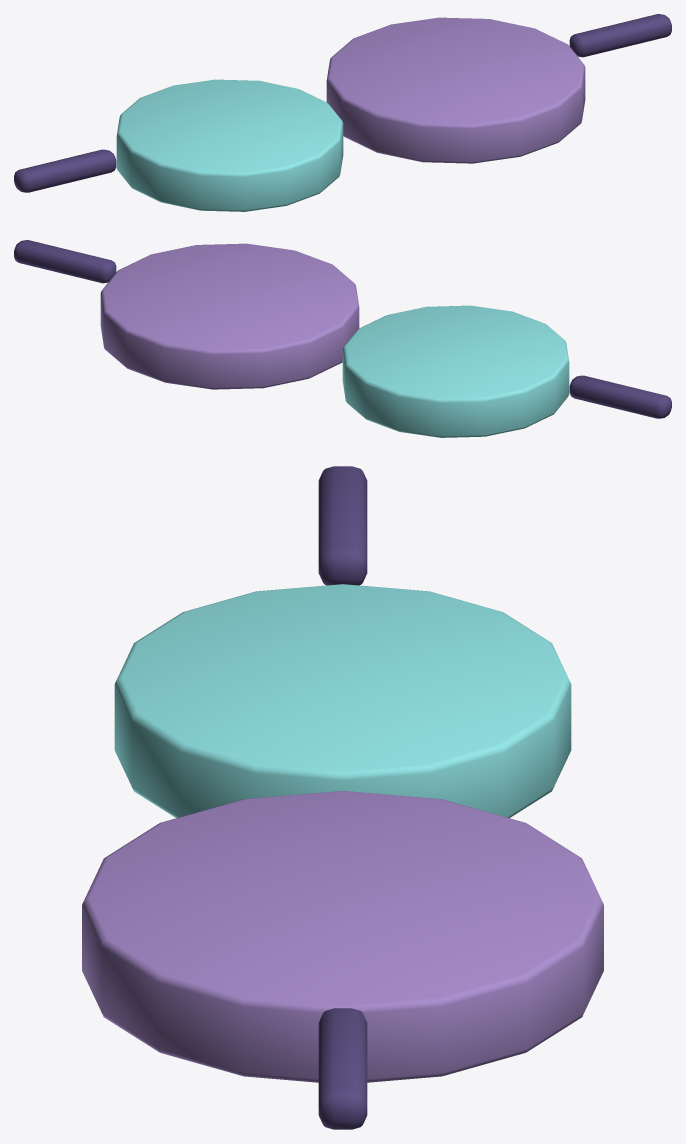
Rendered from kitchen_pan_set.glb.
3 renders of one model, top to bottom at view 1: azimuth 30°, elevation 25°; view 2: azimuth 150°, elevation 25°; view 3: azimuth 270°, elevation 25°, orthographic. The views are drawn at different scales.
Visible parts, largest first — view 1: Pan_1, Pan_0, Handle_0, Handle_1; view 2: Pan_1, Pan_0, Handle_0, Handle_1; view 3: Pan_1, Pan_0, Handle_1, Handle_0.
Boxes of the visible parts, <box> form: Pan_1: <box>326,17,585,163</box>; Pan_0: <box>116,79,343,211</box>; Handle_0: <box>14,149,116,192</box>; Handle_1: <box>569,14,671,57</box>; Pan_1: <box>100,243,359,389</box>; Pan_0: <box>342,305,569,437</box>; Handle_0: <box>569,375,671,418</box>; Handle_1: <box>14,240,116,283</box>; Pan_1: <box>82,791,603,1082</box>; Pan_0: <box>114,584,571,817</box>; Handle_1: <box>318,1008,367,1129</box>; Handle_0: <box>318,466,367,585</box>.
Size of the model in its own units: 2.77 by 0.18 by 0.96.
